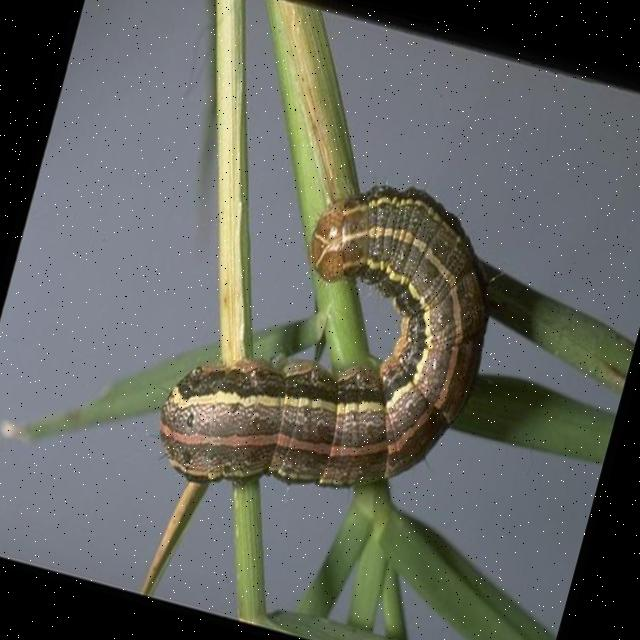worm: (142, 140, 522, 550)
